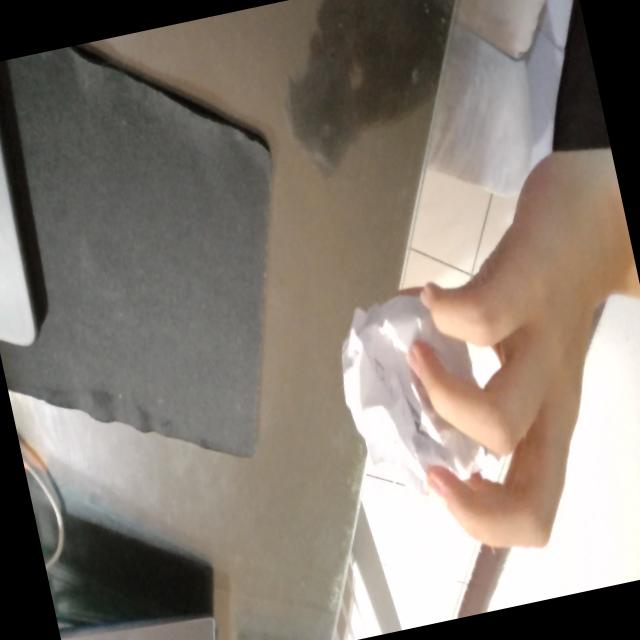crumpled_paper: (326, 279, 500, 513)
